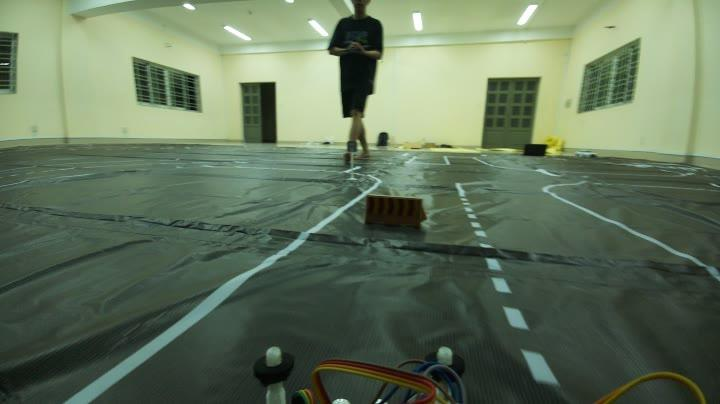roadblock: (362, 188, 432, 236)
